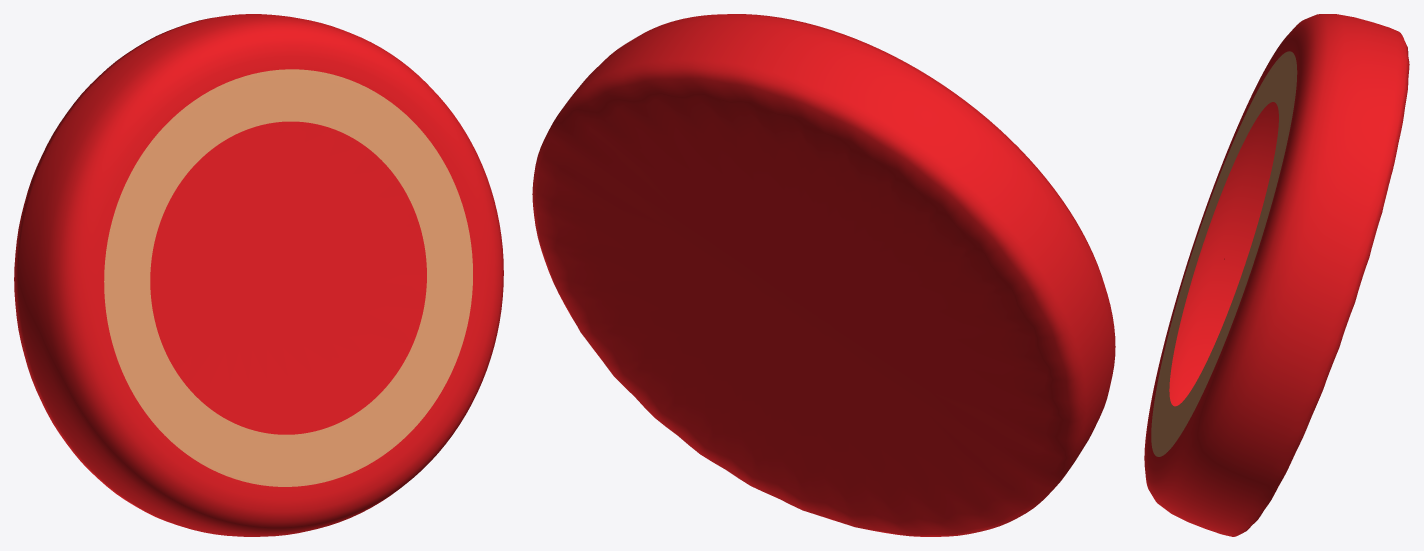
The model's file is Target1.fbx.
The picture shows the model from 3 angles, left to right: view 1: azimuth 30°, elevation 25°; view 2: azimuth 150°, elevation 25°; view 3: azimuth 270°, elevation 25°; orthographic projection. The views are drawn at different scales.
Visible parts, largest first — view 1: Target.001; view 2: Target.001; view 3: Target.001.
Part boxes in pixels (x1,y1,x2,y2): Target.001: (14,14,503,536); Target.001: (532,14,1115,536); Target.001: (1144,14,1409,536).
Size of the model in its own units: 99.36 by 96.71 by 49.32.
